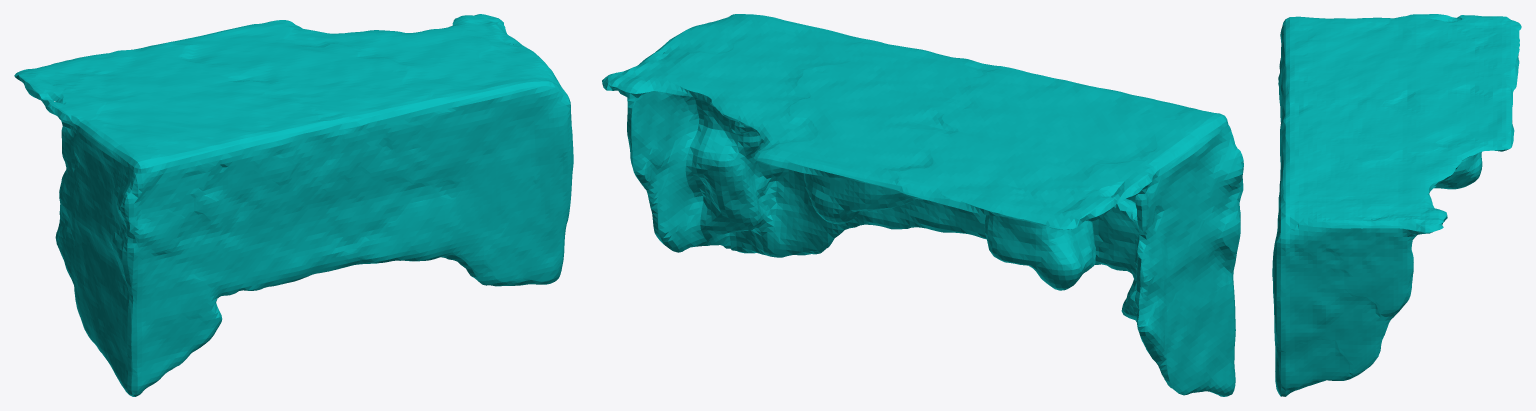
3 views of the same model, side by side, from view 1: azimuth 30°, elevation 25°; view 2: azimuth 150°, elevation 25°; view 3: azimuth 270°, elevation 25° (orthographic). The views are drawn at different scales.
Size of the model in its own units: 0.9235 by 0.4529 by 0.4789.
